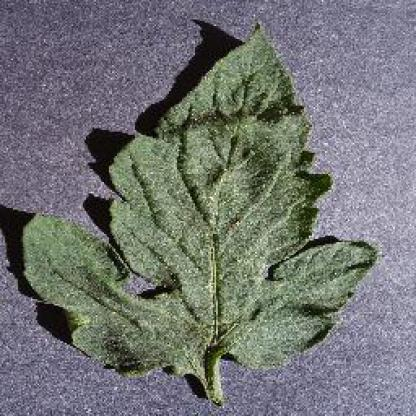bad leaf: (28, 16, 370, 414)
